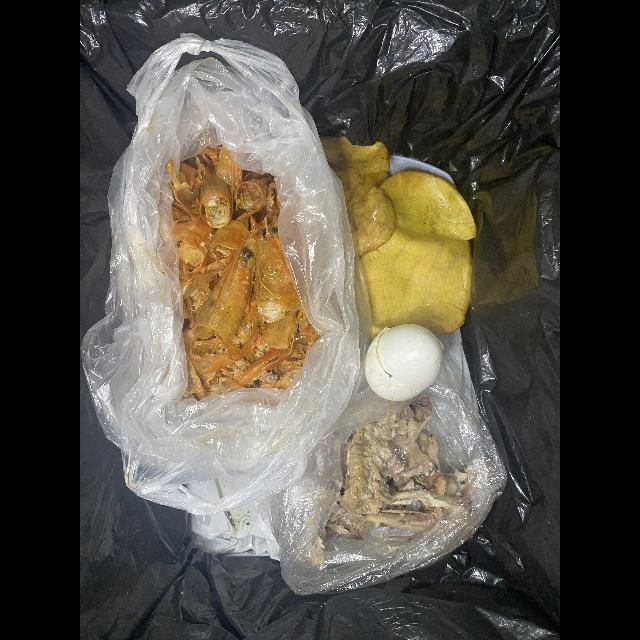left_over_food: (166, 146, 320, 402), (326, 393, 459, 541)
plastic_bag: (80, 35, 360, 519), (276, 374, 508, 597)
